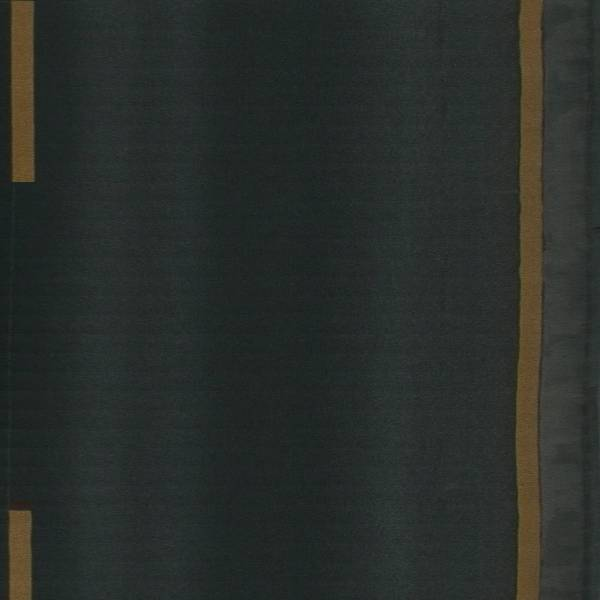road_damage: (436, 1, 459, 125)
